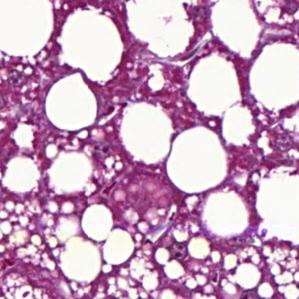steatosis: (165, 126, 230, 194), (42, 71, 96, 133)
